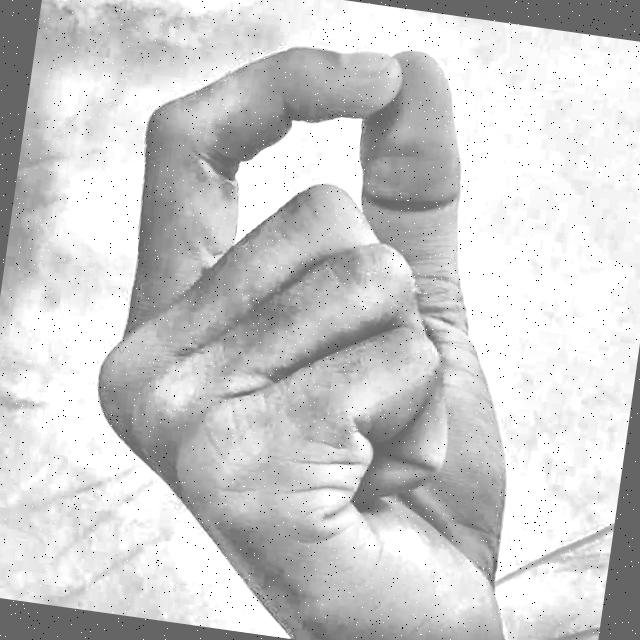Gha: (23, 0, 628, 640)
